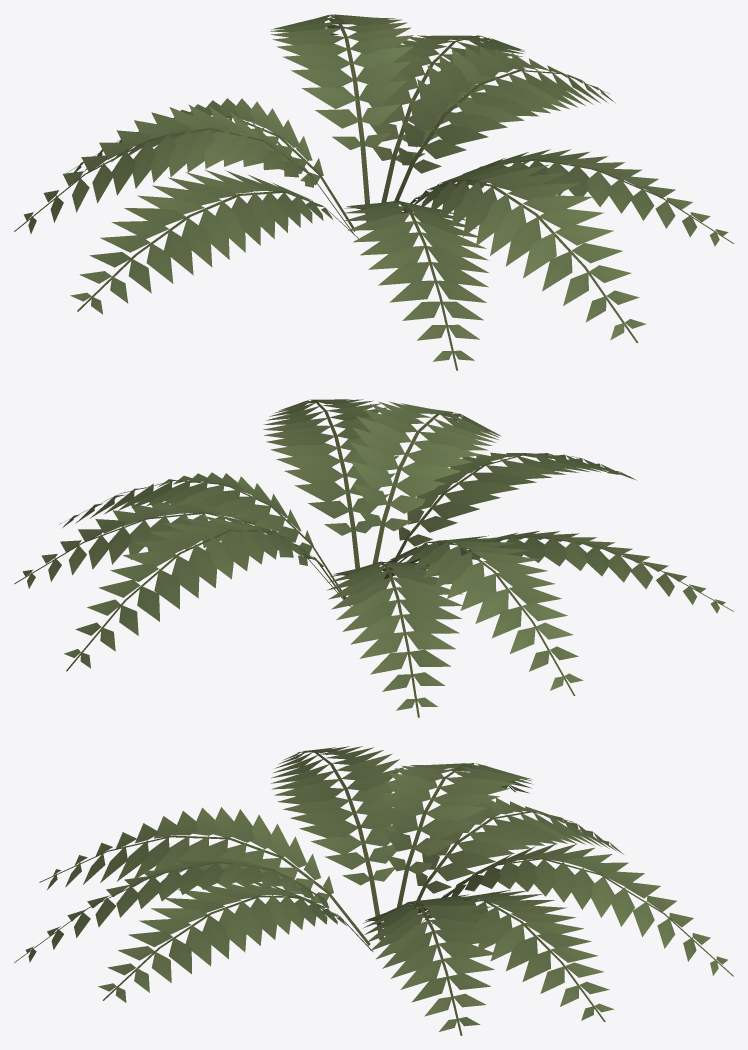
The model's file is fern.glb.
3 renders of one model, top to bottom at view 1: azimuth 30°, elevation 25°; view 2: azimuth 150°, elevation 25°; view 3: azimuth 270°, elevation 25°, orthographic. The views are drawn at different scales.
Parts seen in each view (by area): view 1: fern; view 2: fern; view 3: fern.
Boxes of the visible parts, x1,y1,x2,y2 form: fern: [14, 14, 733, 370]; fern: [14, 399, 733, 717]; fern: [14, 746, 733, 1035].
Size of the model in its own units: 1.61 by 0.3025 by 1.71.
